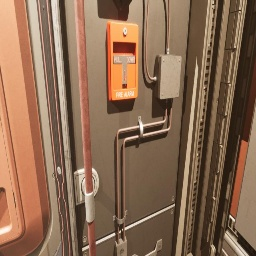FireAlarm ,: (107, 21, 138, 101)
